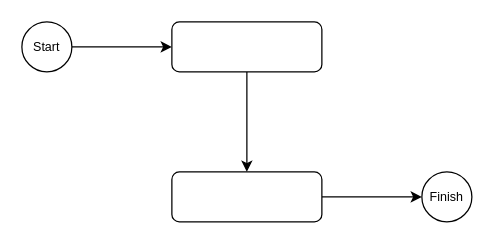
Some shapes in this 494 by 244 pixel diagram are drawn without their labels. The centre of each missing label's shape, as x and y in pixels:
Click Profile Button: the point at 246,196
Select User Profile Menu: the point at 246,46
